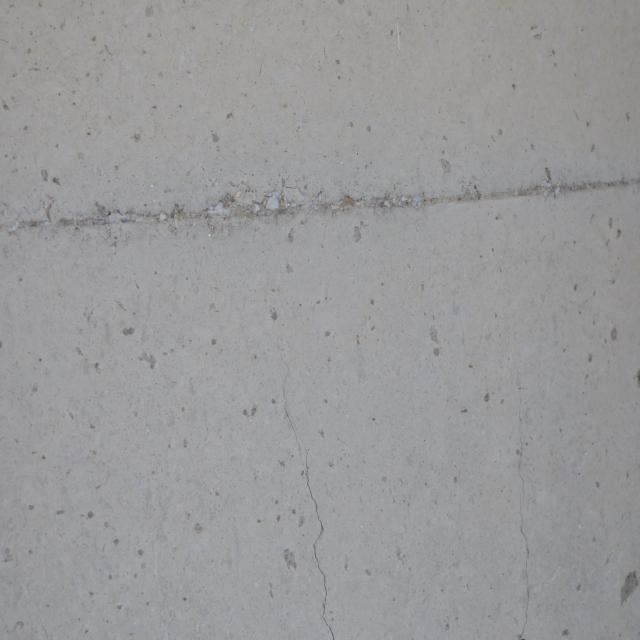vertical crack: (280, 332, 336, 640), (514, 390, 530, 640)
